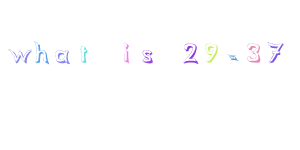-: (226, 51, 241, 64)
2: (182, 41, 200, 65)
3: (245, 42, 261, 64)
7: (266, 41, 284, 63)
9: (204, 42, 218, 65)
a: (54, 48, 71, 64)
h: (34, 40, 50, 63)
i: (120, 41, 133, 64)
s: (141, 48, 154, 64)
t: (77, 44, 90, 63)
w: (6, 47, 32, 63)
